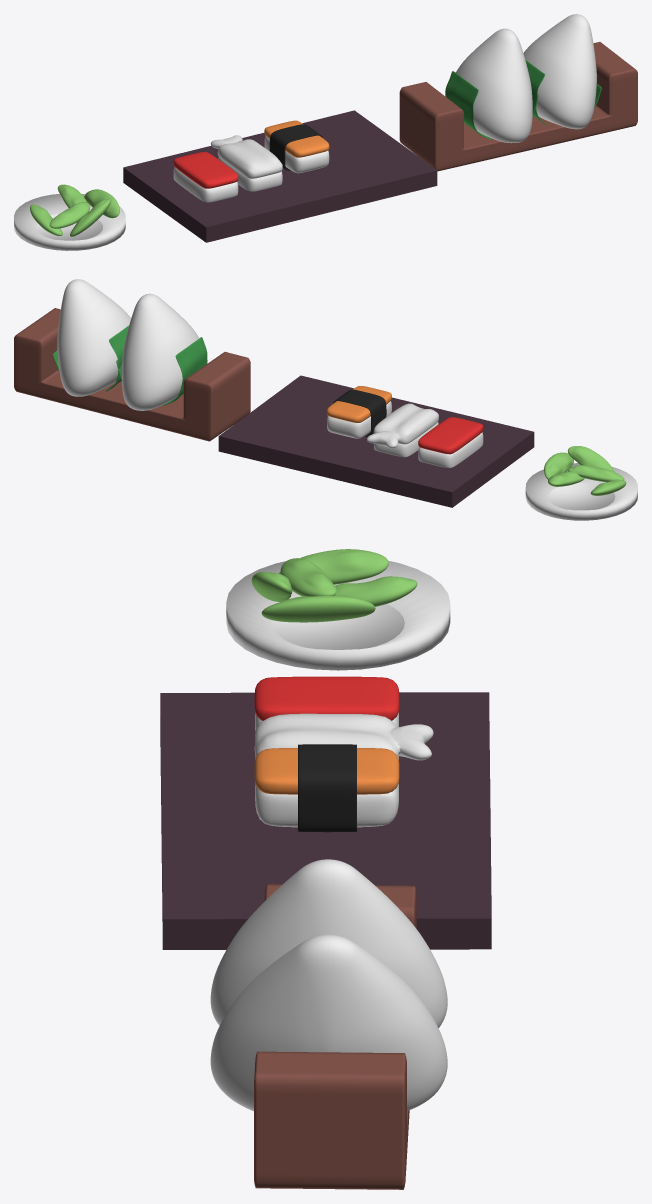
Rendered from Sushi.fbx.
3 views of the same model, one above another, from view 1: azimuth 30°, elevation 25°; view 2: azimuth 150°, elevation 25°; view 3: azimuth 270°, elevation 25° (orthographic). The views are drawn at different scales.
Parts seen in each view (by area): view 1: Big Plate, Rice Holder, T Alge 01, T Alge 02, Plate, Sushi Rice.002, Sushi Rice, Scambi, Sushi Rice.001, edamame.002, edamame.001, edamame.003 (+2 smaller); view 2: Big Plate, Rice Holder, T Alge 01, T Alge 02, Plate, Sushi Rice.002, Sushi Rice, Scambi, edamame.001, edamame.002, edamame.003, Sushi Rice.001 (+2 smaller); view 3: Big Plate, T Alge 02, Rice Holder, T Alge 01, Plate, Sushi Rice.002, Scambi, Sushi Rice, edamame.003, edamame.004, edamame, edamame.002 (+1 smaller).
Boxes of the visible parts, x1,y1,x2,y2 form: Big Plate: [123, 110, 437, 242]; Rice Holder: [399, 42, 637, 171]; T Alge 01: [445, 28, 538, 143]; T Alge 02: [523, 14, 601, 129]; Plate: [14, 194, 125, 250]; Sushi Rice.002: [264, 120, 329, 173]; Sushi Rice: [173, 151, 238, 202]; Scambi: [210, 135, 282, 178]; Sushi Rice.001: [218, 156, 282, 191]; edamame.002: [49, 202, 89, 228]; edamame.001: [70, 198, 111, 236]; edamame.003: [84, 189, 119, 218]; Big Plate: [218, 375, 534, 507]; Rice Holder: [14, 308, 250, 441]; T Alge 01: [116, 293, 207, 410]; T Alge 02: [53, 279, 131, 396]; Plate: [525, 463, 637, 520]; Sushi Rice.002: [326, 386, 391, 438]; Sushi Rice: [418, 417, 483, 467]; Scambi: [367, 403, 438, 448]; edamame.001: [567, 446, 614, 471]; edamame.002: [568, 465, 624, 482]; edamame.003: [544, 452, 573, 479]; Sushi Rice.001: [374, 422, 438, 457]; Big Plate: [160, 692, 491, 949]; T Alge 02: [210, 934, 447, 1111]; Rice Holder: [254, 884, 416, 1189]; T Alge 01: [210, 859, 447, 1028]; Plate: [226, 560, 450, 670]; Sushi Rice.002: [254, 744, 399, 832]; Scambi: [254, 713, 433, 760]; Sushi Rice: [254, 676, 399, 730]; edamame.003: [261, 595, 375, 622]; edamame.004: [279, 549, 388, 584]; edamame: [335, 576, 417, 606]; edamame.002: [280, 558, 336, 596].
Size of the model in its own units: 1662 by 291 by 399.
